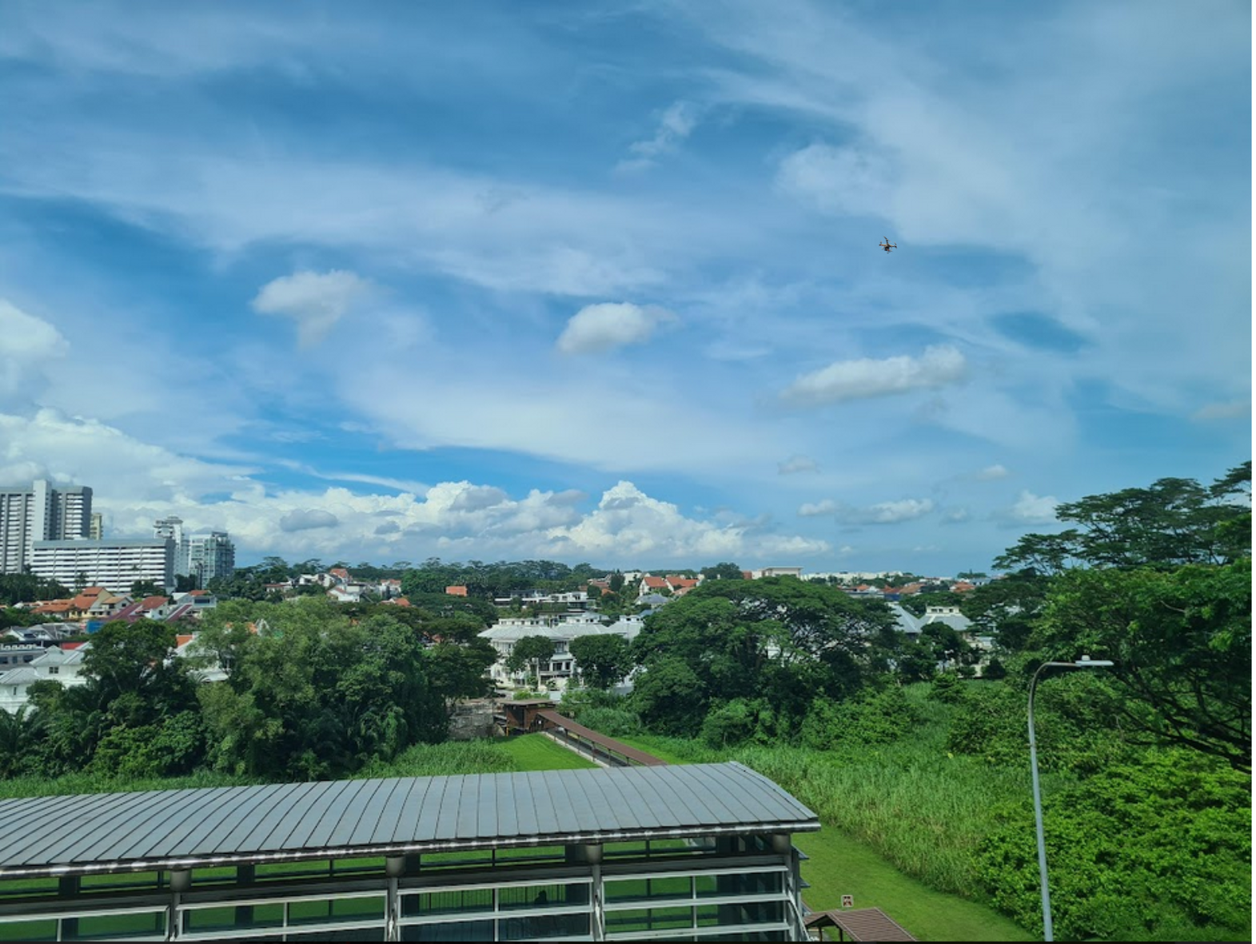drone_other: (878, 235, 898, 255)
